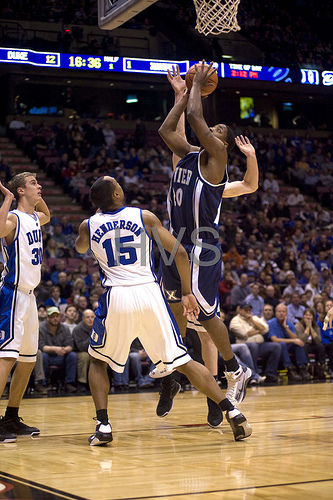basketball: (185, 63, 218, 98)
